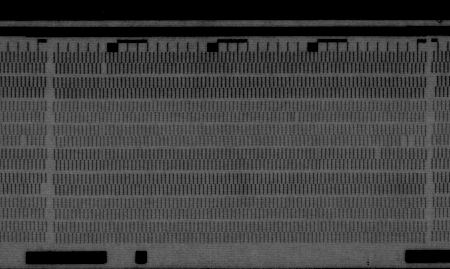Broken hole: (398, 134, 418, 149), (98, 63, 111, 76), (373, 146, 385, 160), (18, 135, 30, 147), (38, 182, 50, 194)
Oblique printing: (290, 111, 302, 123)
